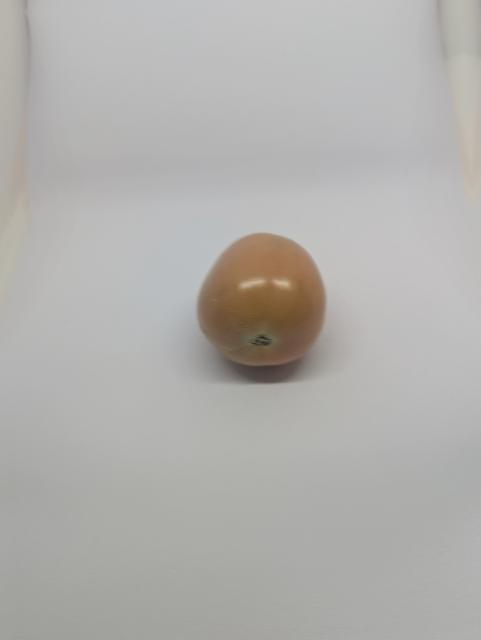turning: (191, 223, 333, 376)
